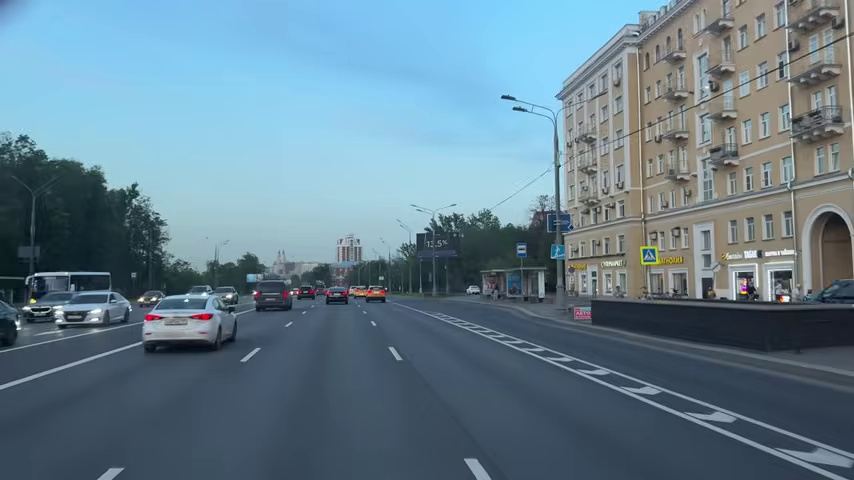apagada: (500, 91, 525, 115)
